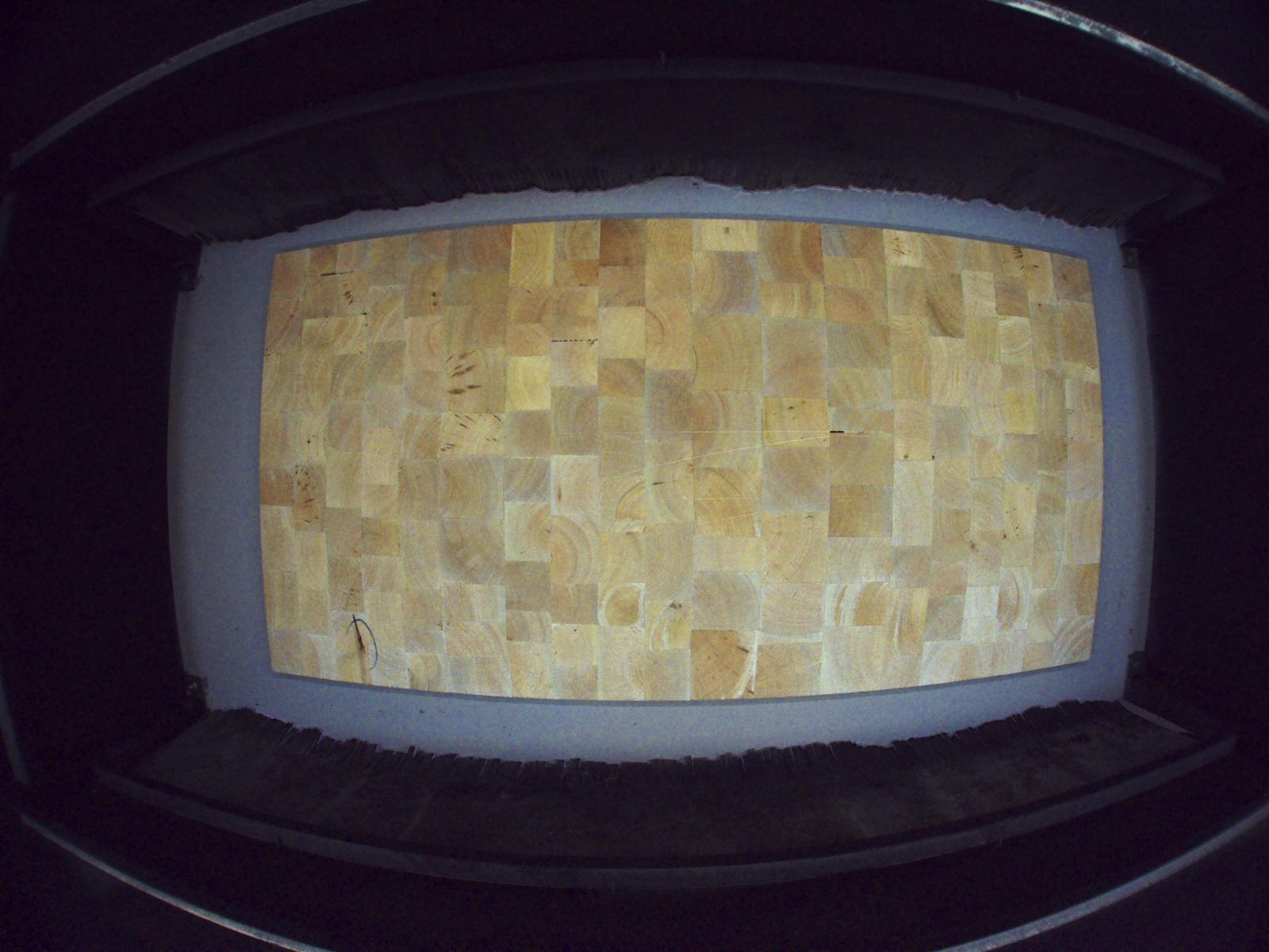nudillo: (351, 613, 368, 682)
